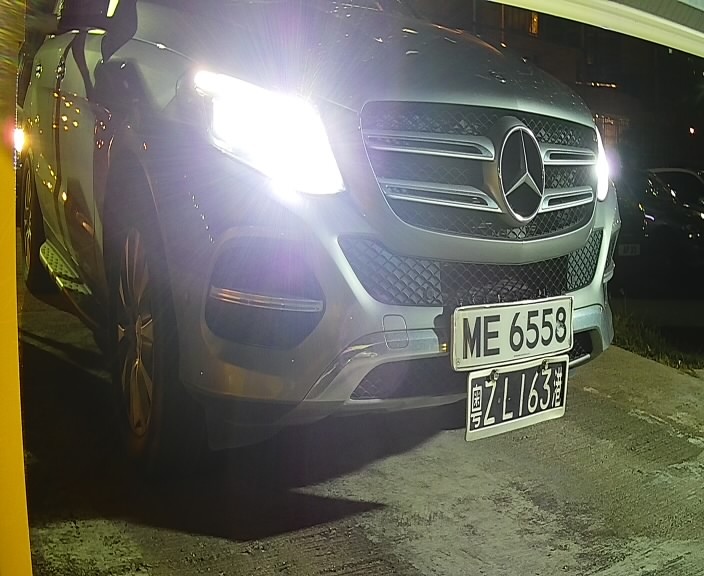Car: (39, 2, 637, 490)
License Plate: (448, 281, 580, 387)
